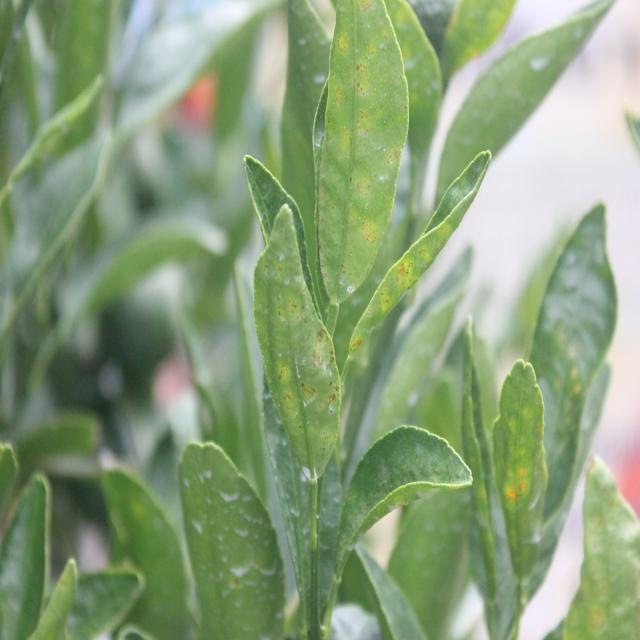canker: (321, 13, 384, 286), (261, 276, 350, 462), (349, 237, 430, 359), (498, 410, 537, 534), (550, 311, 585, 426)
